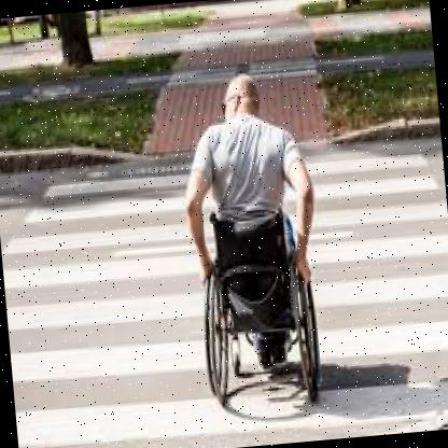wheel: (180, 71, 330, 414)
